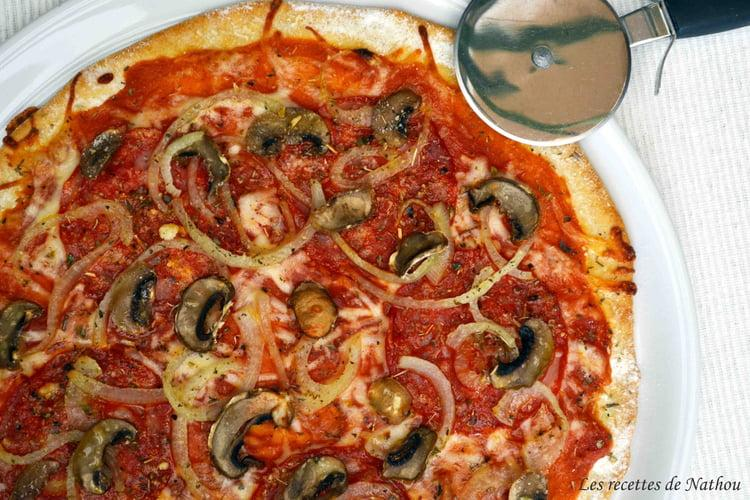champignon: (208, 388, 296, 480), (484, 315, 557, 392), (175, 272, 237, 361), (465, 176, 547, 243), (71, 416, 140, 495), (243, 106, 336, 159), (363, 87, 427, 157), (107, 259, 161, 339), (377, 428, 447, 484), (287, 279, 344, 344), (307, 185, 376, 234), (282, 454, 351, 500), (390, 229, 450, 276), (366, 377, 420, 429)
w: (2, 294, 44, 377)
